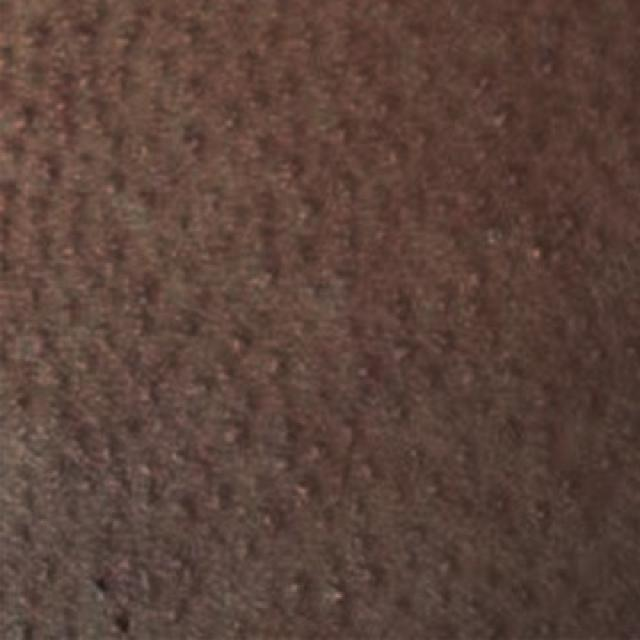keratosis pilaris: (1, 7, 638, 638)
